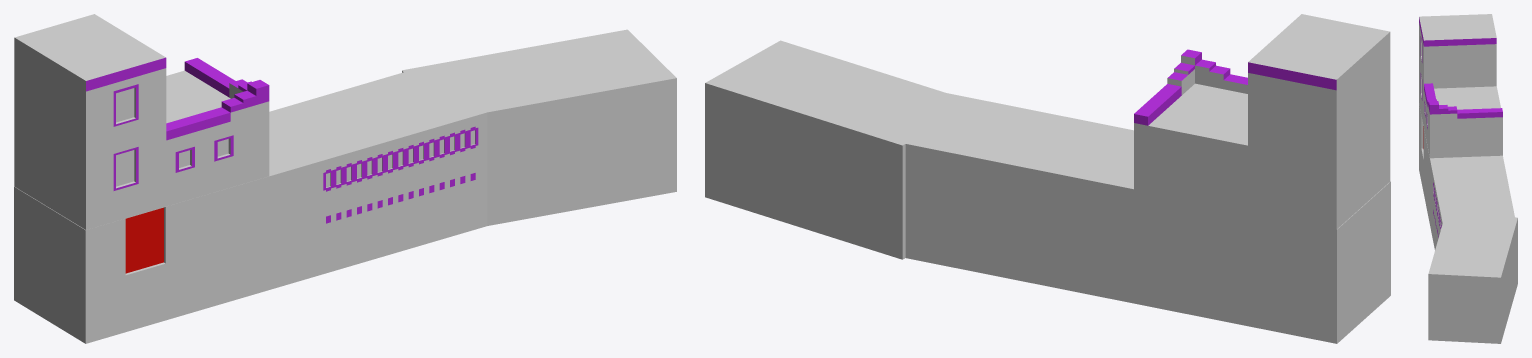
3 views of the same model, side by side, from view 1: azimuth 30°, elevation 25°; view 2: azimuth 150°, elevation 25°; view 3: azimuth 270°, elevation 25° (orthographic). The views are drawn at different scales.
Parts seen in each view (by area): view 1: Cube.005; view 2: Cube.005; view 3: Cube.005.
Part boxes in pixels (x1=…): Cube.005: x1=14, y1=14, x2=676, y2=343; Cube.005: x1=705, y1=14, x2=1390, y2=343; Cube.005: x1=1419, y1=14, x2=1517, y2=343.
Size of the model in its own units: 1144 by 462 by 271.
